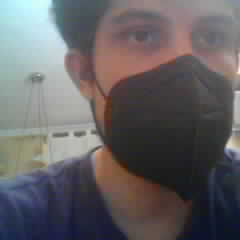with_mask: (93, 1, 235, 197)
